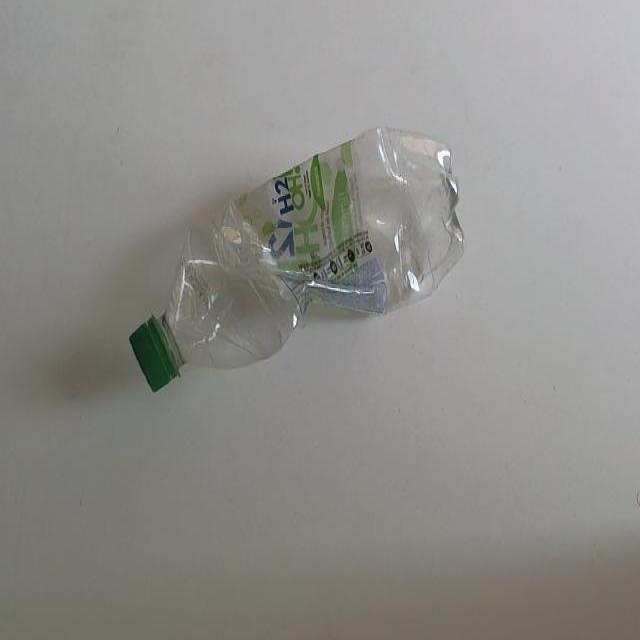defect: (127, 122, 468, 396)
